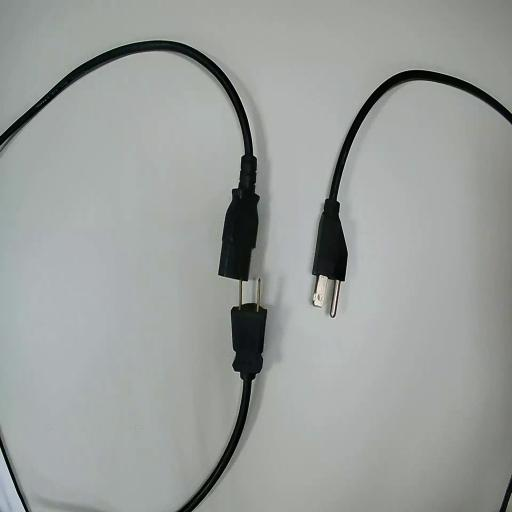wire: (0, 41, 258, 279), (314, 71, 511, 280), (179, 303, 266, 511)
